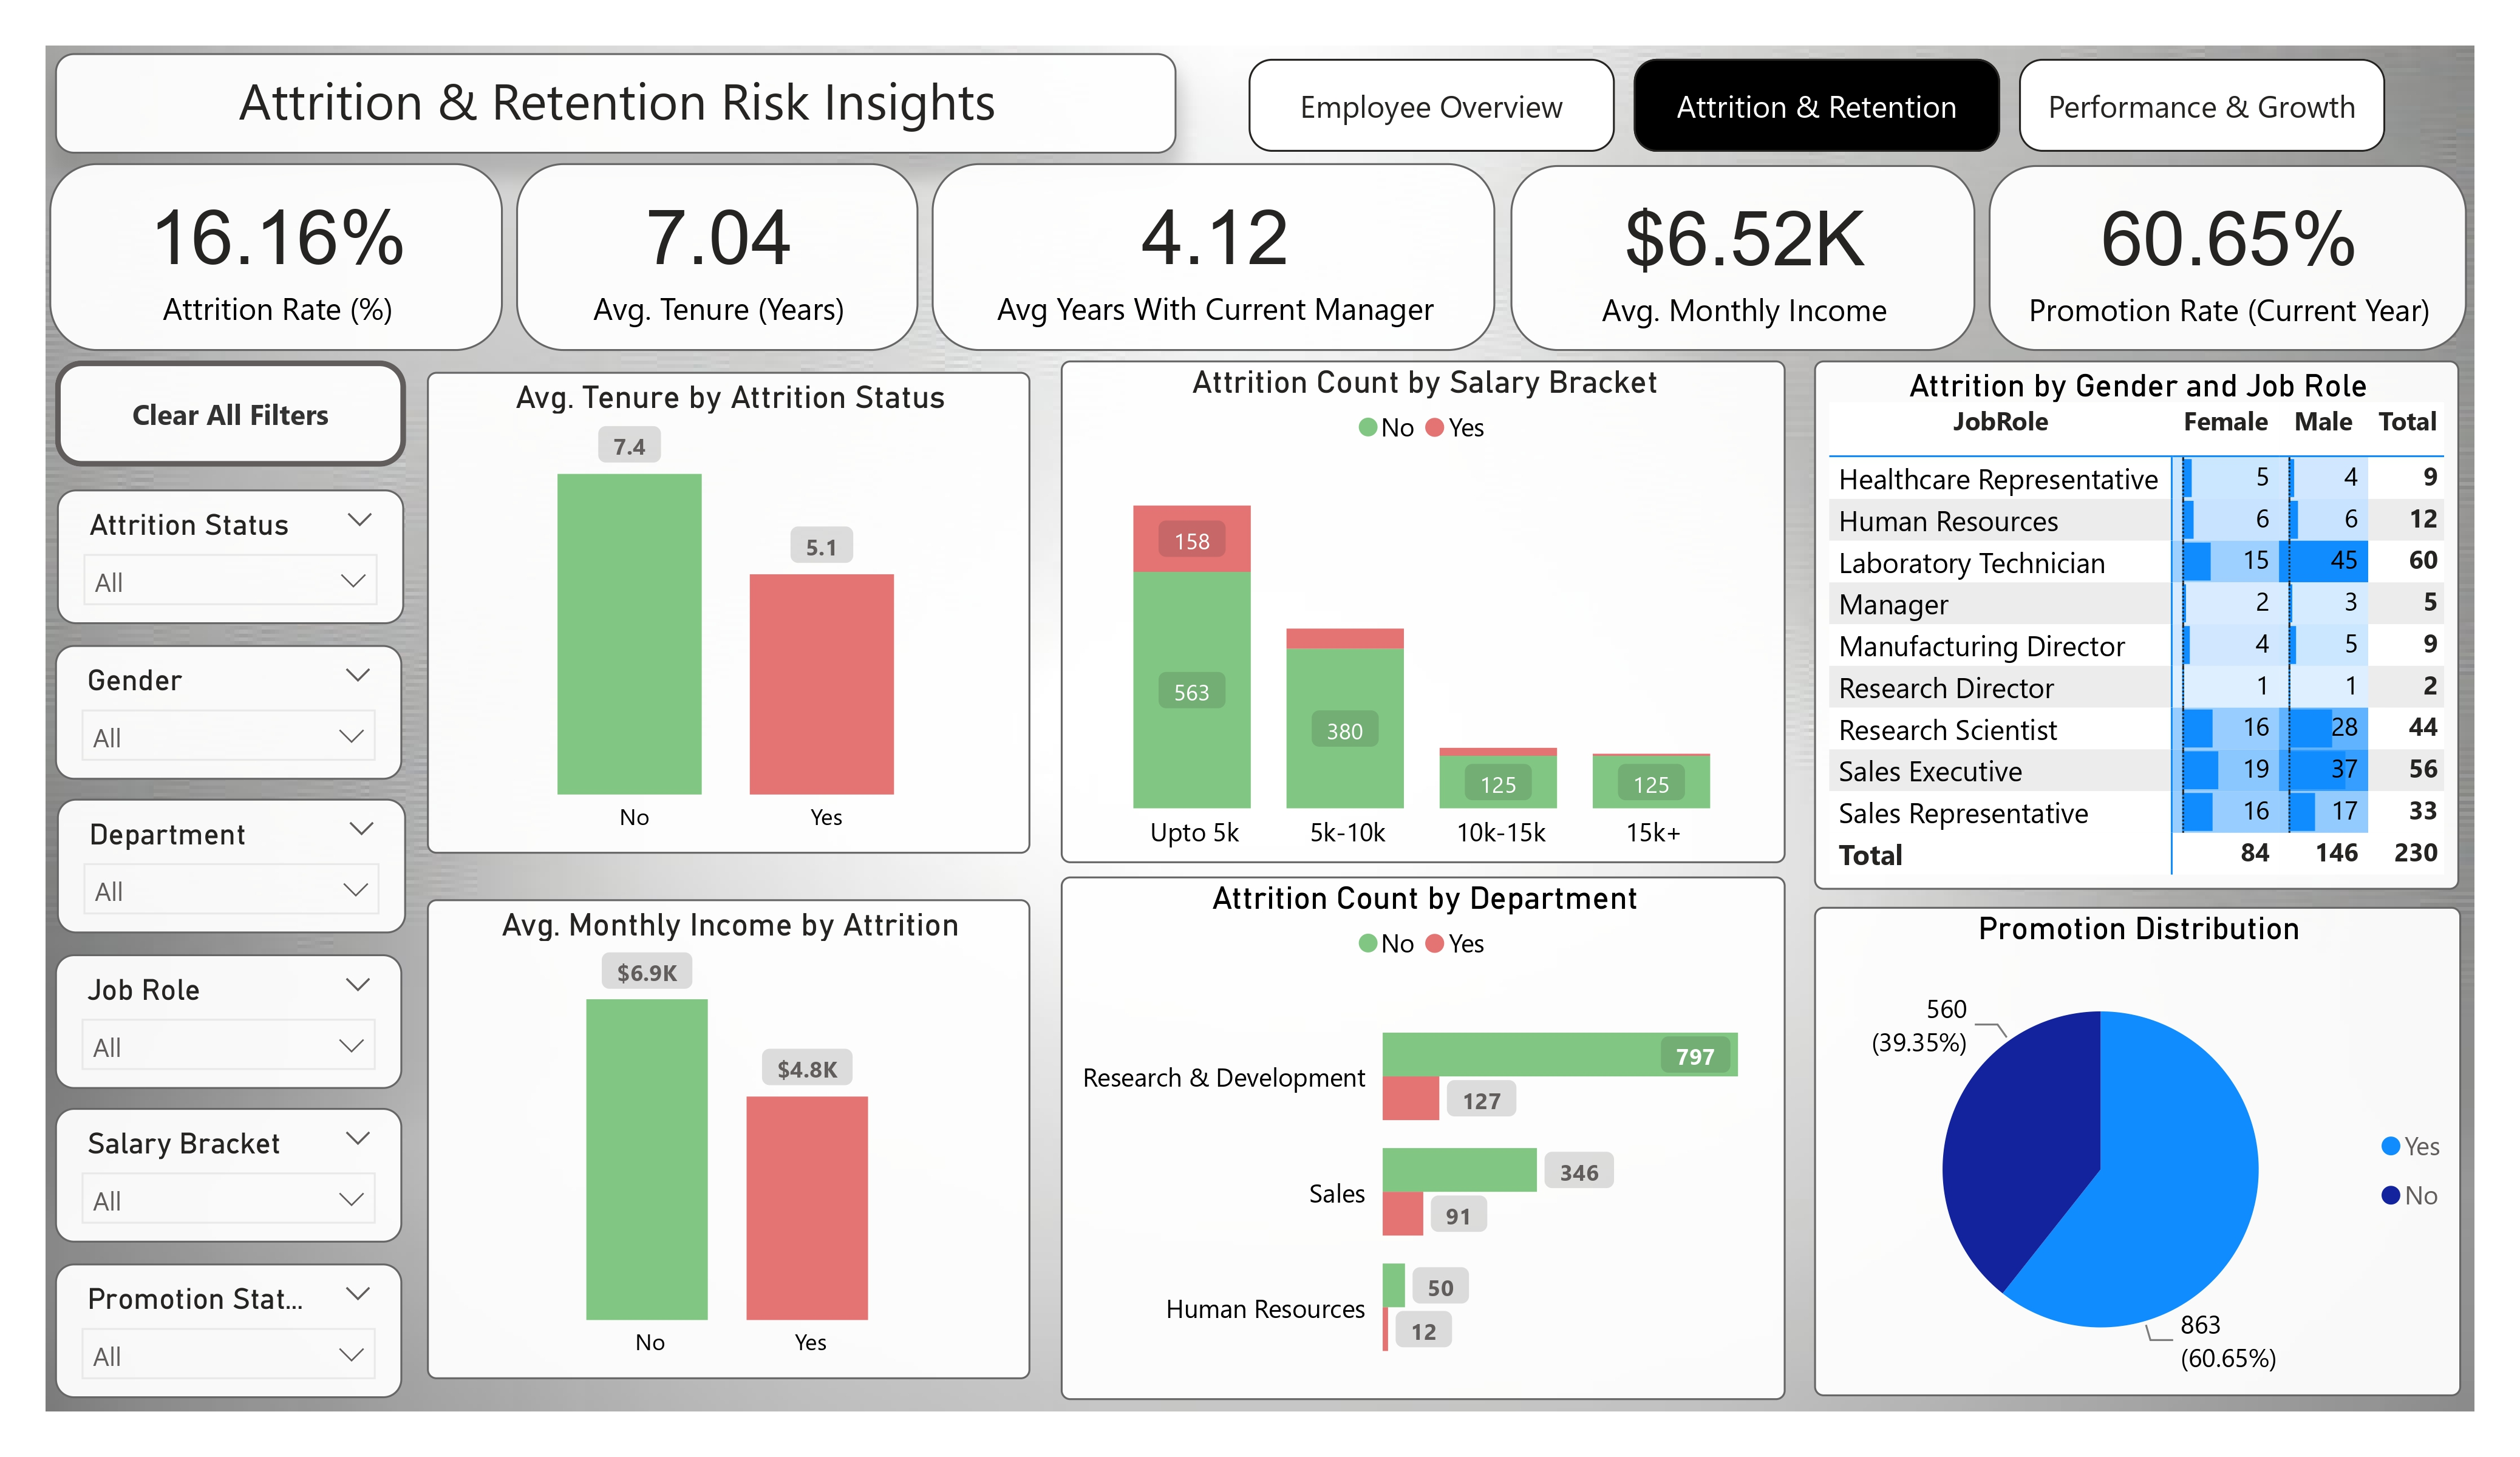

The dashboard page shown, as its layout file describes it:
{"tool":"powerbi","page":{"name":"Attrition & Retention","canvas":[1280,720],"ordinal":1},"visuals":[{"type":"textbox","box":[4.8,4,591,53.1],"z":0},{"type":"card","fields":{"Values":["_Measure.Attrition Rate (%)"]},"box":[2.4,62,238.7,98.4],"z":1000,"group":"g2"},{"type":"actionButton","box":[5,166.4,184.5,55.5],"z":1000},{"type":"group","id":"g1","title":"Group 2","box":[4.8,233.8,184.5,478.8],"z":3000},{"type":"pageNavigator","box":[634.4,7,600.6,49.4],"z":4000},{"type":"clusteredBarChart","title":"Attrition Count by Department","fields":{"Category":["HR_Analytics-processed.Department"],"Y":["CountNonNull(HR_Analytics-processed.EmpID)"],"Series":["HR_Analytics-processed.Attrition"]},"box":[535.5,437.8,381.1,276.2],"z":5000},{"type":"pivotTable","title":"Attrition by Gender and Job Role","fields":{"Rows":["HR_Analytics-processed.JobRole"],"Columns":["HR_Analytics-processed.Gender"],"Values":["_Measure.Attrition Employee"]},"box":[931.7,166,340.3,278.6],"z":6000},{"type":"columnChart","title":"Attrition Count by Salary Bracket","fields":{"Category":["HR_Analytics-processed.SalarySlab"],"Series":["HR_Analytics-processed.Attrition"],"Y":["CountNonNull(HR_Analytics-processed.EmpID)"]},"box":[535.5,166.4,381.1,264.1],"z":7000},{"type":"slicer","fields":{"Values":["HR_Analytics-processed.Attrition"]},"box":[5.8,233.8,183.3,71.2],"z":8000,"group":"g1"},{"type":"pieChart","title":"Promotion Distribution","fields":{"Category":["HR_Analytics-processed.WasPromoted"],"Y":["CountNonNull(HR_Analytics-processed.WasPromoted)"]},"box":[931.7,454.2,341.7,258],"z":8000},{"type":"clusteredColumnChart","title":"Avg. Tenure by Attrition Status","fields":{"Y":["_Measure.Avg. Tenure (Years)"],"Category":["HR_Analytics-processed.Attrition"]},"box":[201.4,172.5,317.2,253.3],"z":9000},{"type":"clusteredColumnChart","title":"Avg. Monthly Income by Attrition","fields":{"Category":["HR_Analytics-processed.Attrition"],"Y":["_Measure.Avg. Monthly Income"]},"box":[201.4,449.8,317.2,253.3],"z":10000},{"type":"slicer","fields":{"Values":["HR_Analytics-processed.Gender"]},"box":[4.8,315.3,183.3,71.2],"z":11000,"group":"g1"},{"type":"slicer","fields":{"Values":["HR_Analytics-processed.Department"]},"box":[6,396.9,183.3,71.2],"z":12000,"group":"g1"},{"type":"slicer","fields":{"Values":["HR_Analytics-processed.JobRole"]},"box":[4.8,478.4,183.3,71.2],"z":13000,"group":"g1"},{"type":"slicer","fields":{"Values":["HR_Analytics-processed.SalarySlab"]},"box":[4.8,559.9,183.3,71.2],"z":14000,"group":"g1"},{"type":"card","fields":{"Values":["_Measure.Avg. Tenure (Years)"]},"box":[248.9,61.6,211.1,98.9],"z":15000,"group":"g2"},{"type":"slicer","fields":{"Values":["HR_Analytics-processed.WasPromoted"]},"box":[5,641.4,183.3,71],"z":15000,"group":"g1"},{"type":"card","fields":{"Values":["_Measure.Avg Years With Current Manager"]},"box":[467.7,61.5,296.7,98.9],"z":16000,"group":"g2"},{"type":"card","fields":{"Values":["_Measure.Avg. Monthly Income"]},"box":[772.1,62.1,244.8,98.9],"z":17000,"group":"g2"},{"type":"card","fields":{"Values":["_Measure.Promotion Rate (%)"]},"box":[1024.7,62.1,252.1,98.9],"z":18000,"group":"g2"},{"type":"group","id":"g2","title":"Group 1","box":[2.4,61.5,1274.3,99.5],"z":18001}]}

Visuals, with their boxes on the page's 1280x720 design canvas (x1, y1, x2, y2). These are canvas units, not pixel positions in the 2520x1457 screenshot, which may show the page scaled, cropped or inside an application window:
textbox: bbox(5, 4, 596, 57)
card - _Measure.Attrition Rate (%): bbox(2, 62, 241, 160)
actionButton: bbox(5, 166, 190, 222)
"Group 2" group: bbox(5, 234, 189, 713)
pageNavigator: bbox(634, 7, 1235, 56)
"Attrition Count by Department" clusteredBarChart: bbox(536, 438, 917, 714)
"Attrition by Gender and Job Role" pivotTable: bbox(932, 166, 1272, 445)
"Attrition Count by Salary Bracket" columnChart: bbox(536, 166, 917, 430)
slicer - HR_Analytics-processed.Attrition: bbox(6, 234, 189, 305)
"Promotion Distribution" pieChart: bbox(932, 454, 1273, 712)
"Avg. Tenure by Attrition Status" clusteredColumnChart: bbox(201, 172, 519, 426)
"Avg. Monthly Income by Attrition" clusteredColumnChart: bbox(201, 450, 519, 703)
slicer - HR_Analytics-processed.Gender: bbox(5, 315, 188, 386)
slicer - HR_Analytics-processed.Department: bbox(6, 397, 189, 468)
slicer - HR_Analytics-processed.JobRole: bbox(5, 478, 188, 550)
slicer - HR_Analytics-processed.SalarySlab: bbox(5, 560, 188, 631)
card - _Measure.Avg. Tenure (Years): bbox(249, 62, 460, 160)
slicer - HR_Analytics-processed.WasPromoted: bbox(5, 641, 188, 712)
card - _Measure.Avg Years With Current Manager: bbox(468, 62, 764, 160)
card - _Measure.Avg. Monthly Income: bbox(772, 62, 1017, 161)
card - _Measure.Promotion Rate (%): bbox(1025, 62, 1277, 161)
"Group 1" group: bbox(2, 62, 1277, 161)
